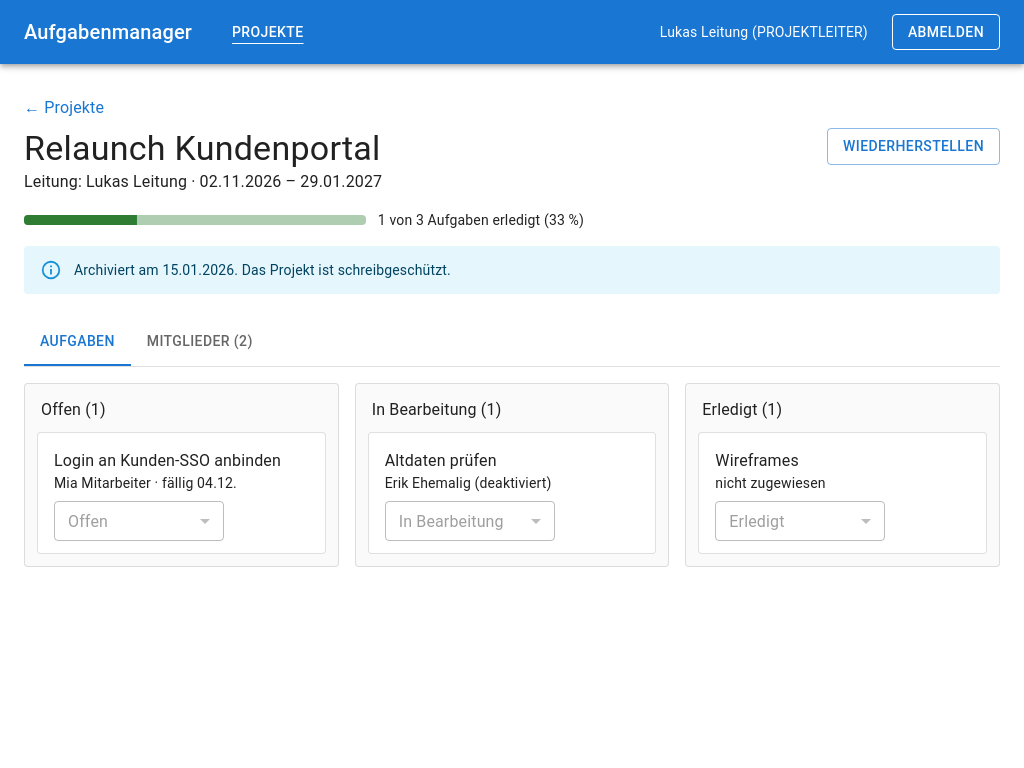
it: Projektdetail (wf_03, wf_04) › archiviertes Projekt ist schreibgeschützt, Leitung kann wiederherstellen
Expected: the text "Archiviert am 15.01.2026. Das Projekt ist schreibgeschützt." is shown, [74, 262, 451, 278]
Expected: the button "Neue Aufgabe" is not shown
Click the button "Wiederherstellen" at (914, 146), box [827, 128, 1000, 164]
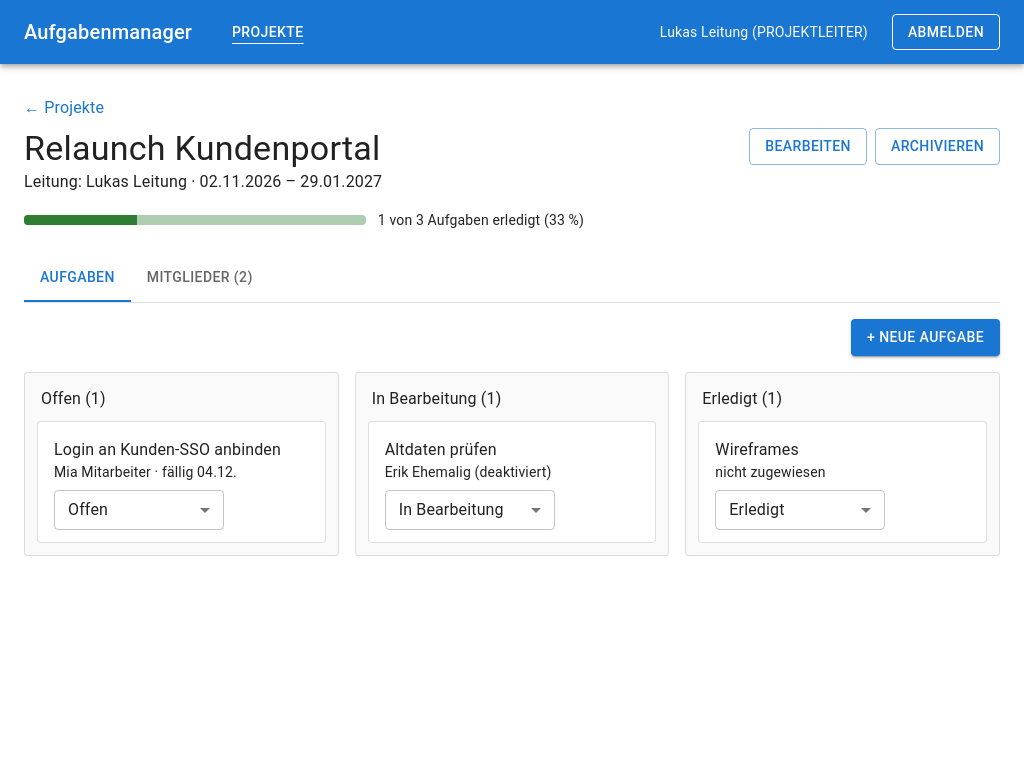
Now the button "Archivieren" is shown, box [875, 128, 1000, 164]
